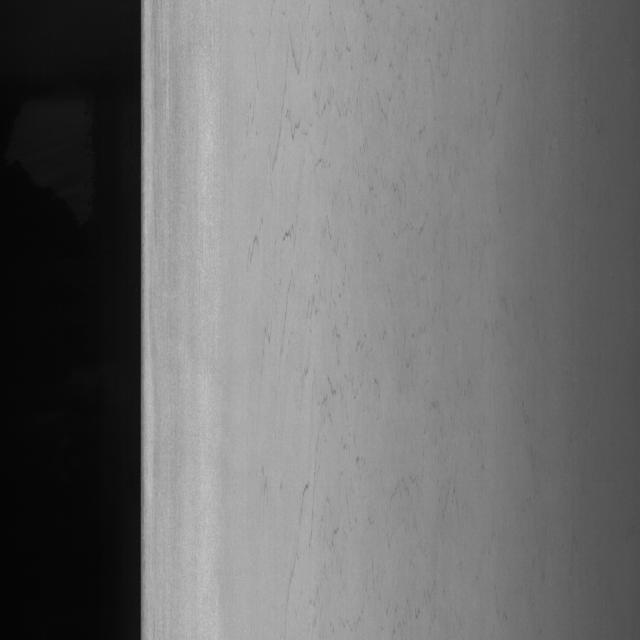inclusion: (242, 0, 429, 598)
